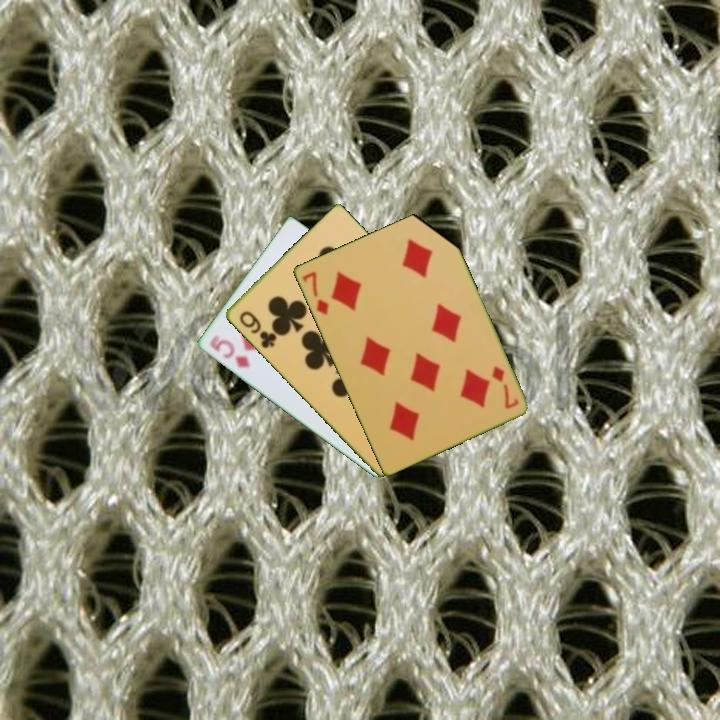5d: (206, 331, 252, 371)
7d: (488, 362, 522, 412), (298, 267, 331, 318)
9c: (236, 307, 279, 351)
